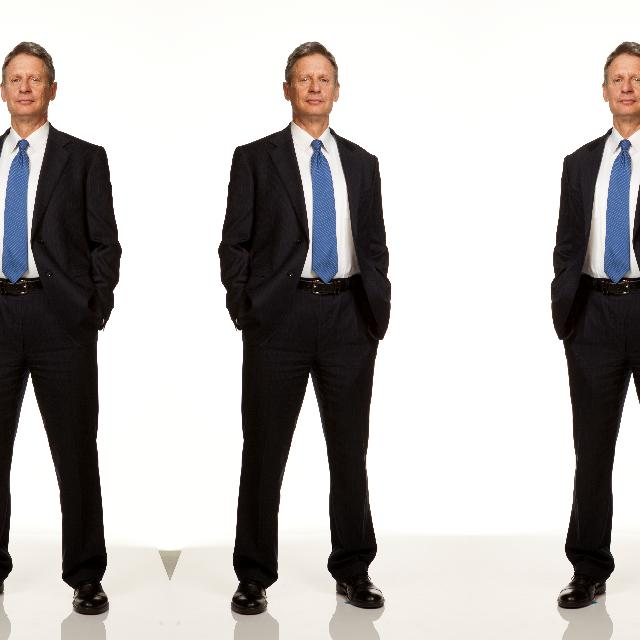person: (219, 31, 405, 446), (0, 31, 119, 446), (537, 31, 640, 446)
